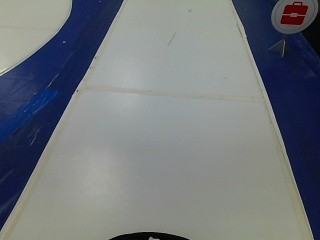company: (267, 0, 318, 36)
